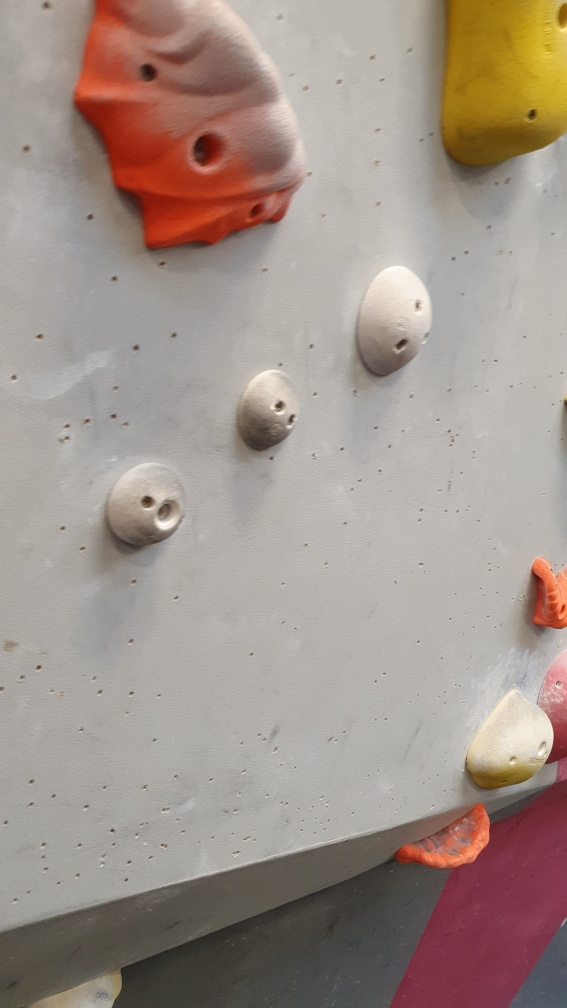Jug: (68, 1, 308, 256), (390, 800, 497, 875), (524, 552, 567, 631)
Sloper: (350, 261, 437, 379), (102, 457, 190, 550), (235, 367, 301, 452)
